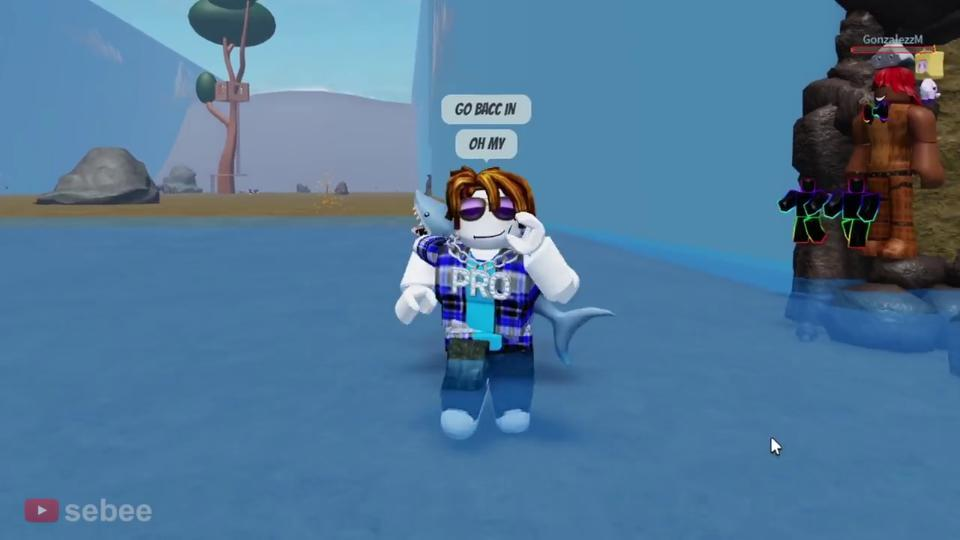Character: (393, 163, 581, 439), (778, 42, 944, 259)
